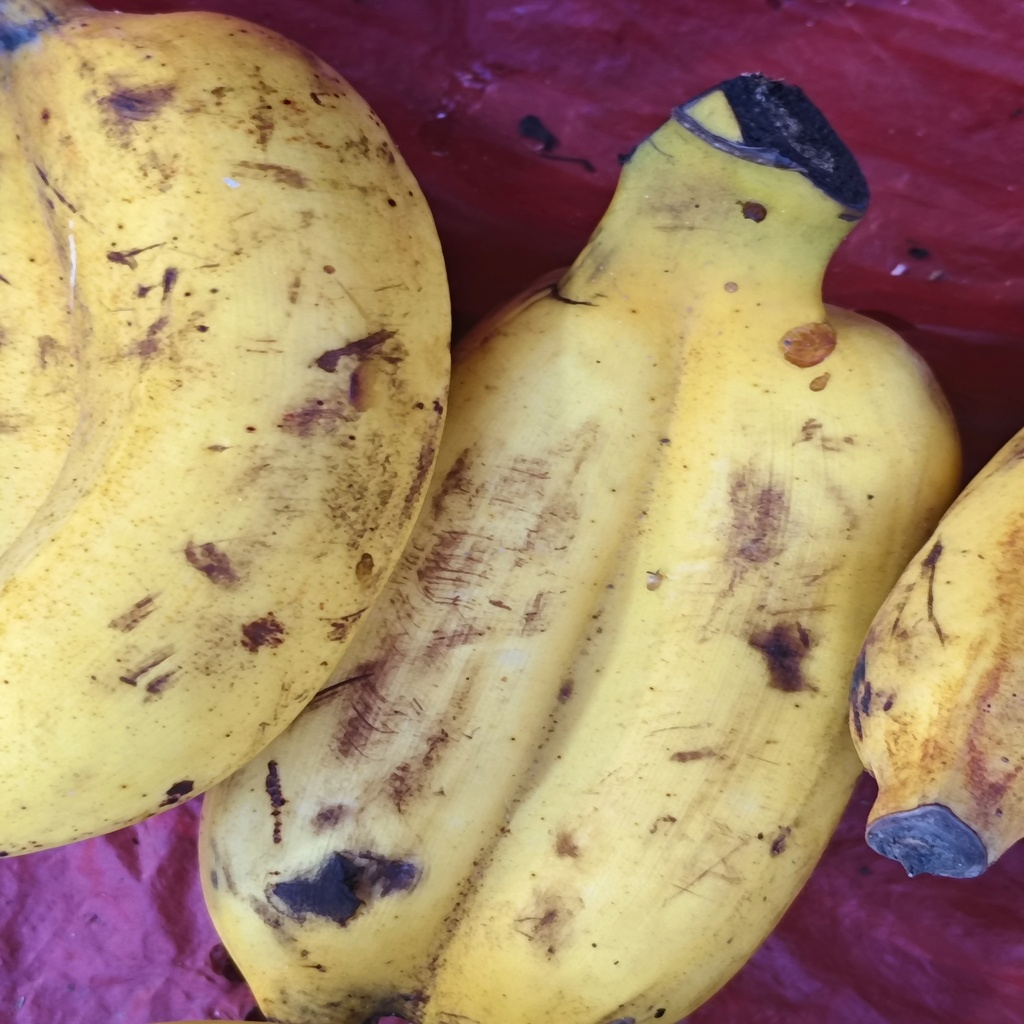healthy: (207, 83, 954, 1024), (5, 7, 451, 864)
